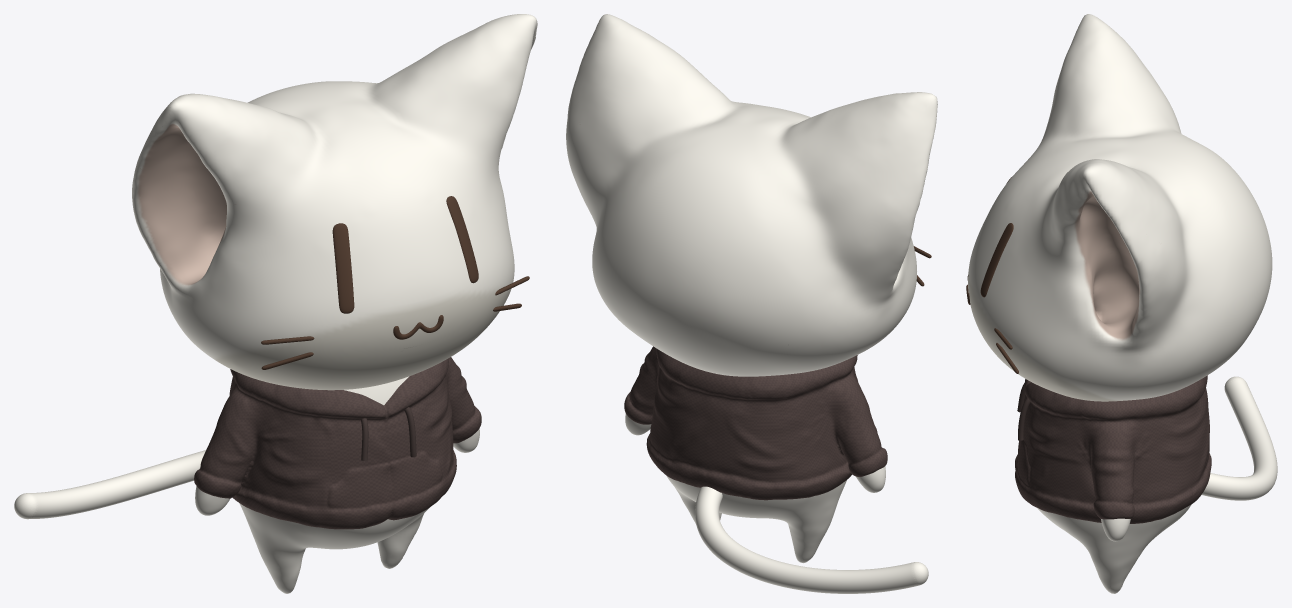
Rendered from whitecat_-_osu.glb.
The picture shows the model from 3 angles, left to right: view 1: azimuth 30°, elevation 25°; view 2: azimuth 150°, elevation 25°; view 3: azimuth 270°, elevation 25°; orthographic projection. The views are drawn at different scales.
Parts seen in each view (by area): view 1: Head_3, Clothes_1, Body_0, Tail_4, Face_7, Hands_2, Facial Hair_8; view 2: Head_3, Clothes_1, Tail_4, Body_0, Hands_2; view 3: Head_3, Clothes_1, Tail_4, Body_0, Face_7, Hands_2.
Part boxes in pixels (left/top/right/bottom): Head_3: left=132, top=14, right=537, bottom=390; Clothes_1: left=194, top=357, right=481, bottom=529; Body_0: left=239, top=376, right=429, bottom=593; Tail_4: left=14, top=450, right=205, bottom=519; Face_7: left=332, top=196, right=478, bottom=339; Hands_2: left=195, top=428, right=479, bottom=515; Facial Hair_8: left=261, top=276, right=529, bottom=369; Head_3: left=566, top=14, right=937, bottom=376; Clothes_1: left=624, top=346, right=887, bottom=500; Tail_4: left=695, top=486, right=928, bottom=593; Body_0: left=666, top=475, right=846, bottom=563; Hands_2: left=625, top=413, right=885, bottom=492; Head_3: left=968, top=14, right=1272, bottom=401; Clothes_1: left=1015, top=375, right=1211, bottom=523; Tail_4: left=1201, top=376, right=1277, bottom=500; Body_0: left=1037, top=504, right=1191, bottom=593; Face_7: left=966, top=177, right=1013, bottom=304; Hands_2: left=1101, top=518, right=1130, bottom=541.
Size of the model in its own units: 4.3 by 4.88 by 2.87.
Materials: 5 (2 with a texture image).
